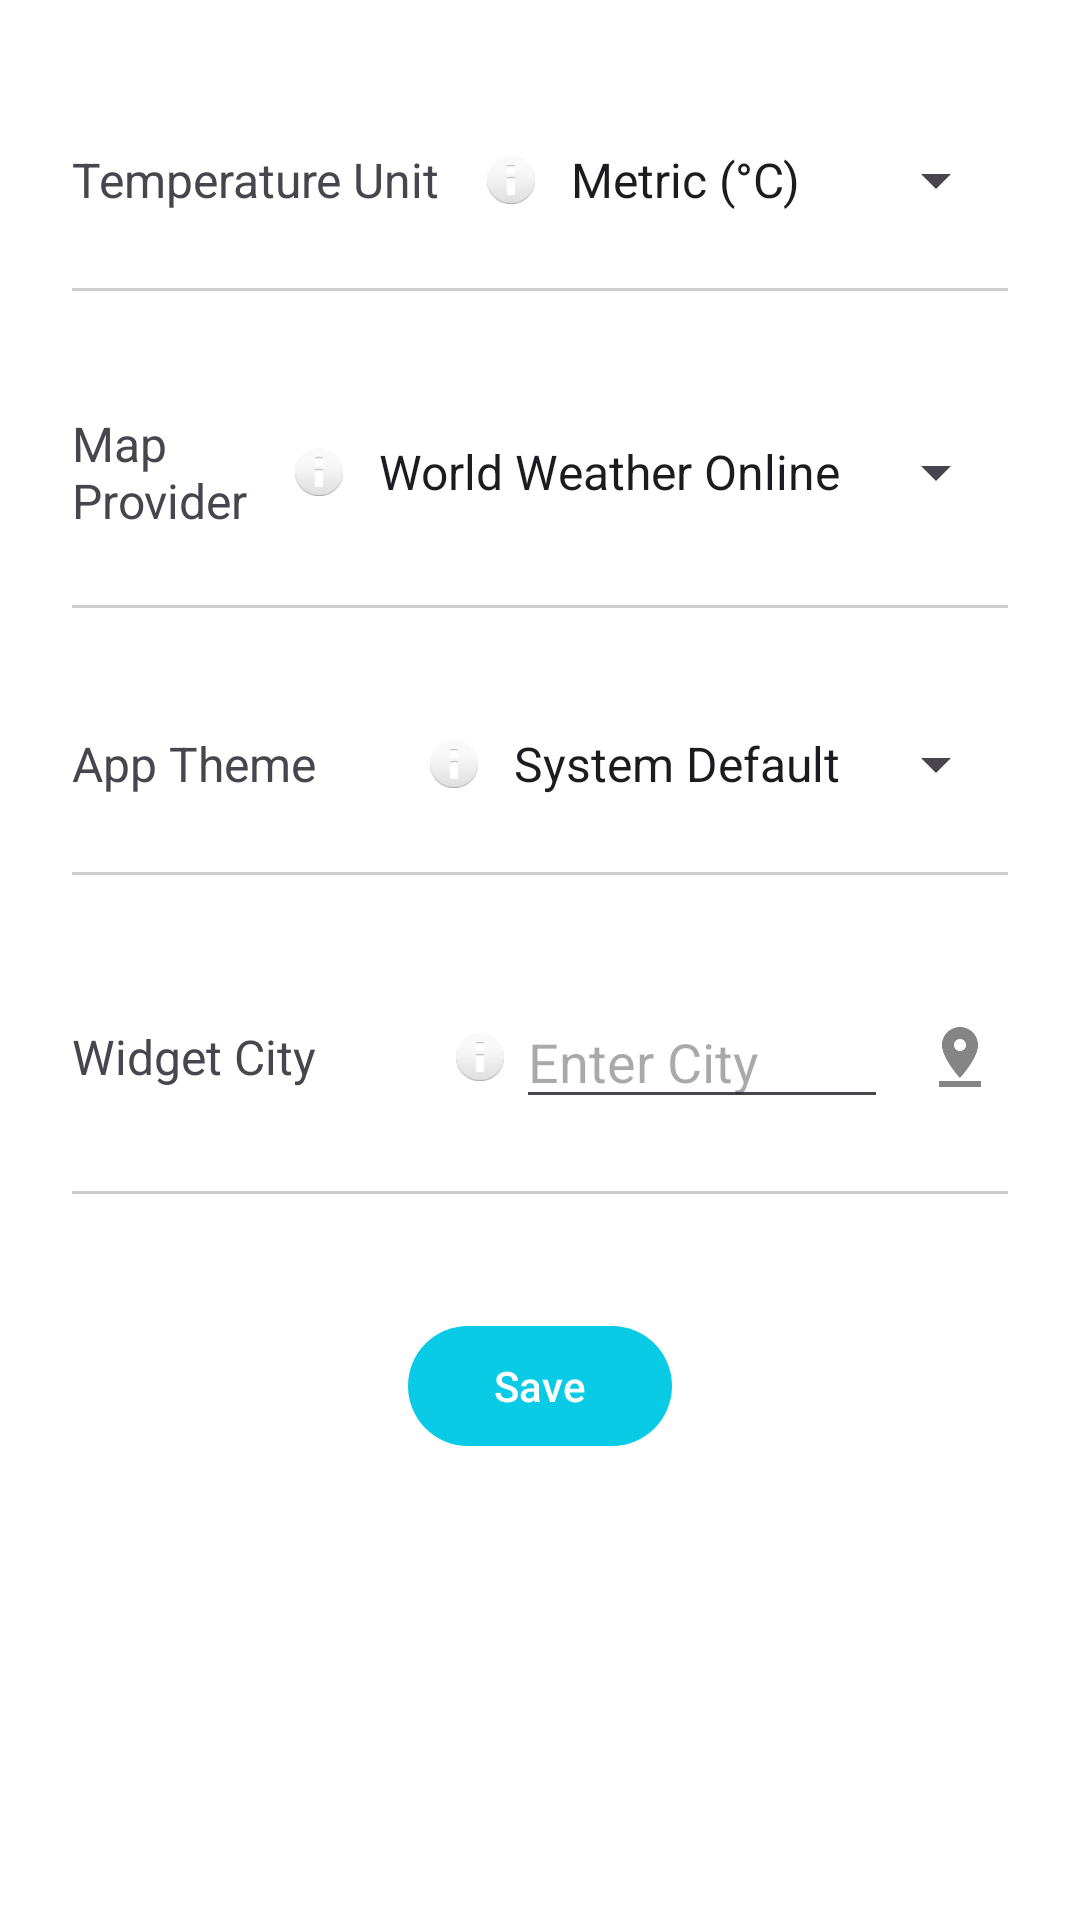

Point at icon controls on the screen. Image size 1080 × 1920, points as [x,y].
Detect City: [960,1057]
Info: [511,184], [319,476], [454,768], [480,1061]
